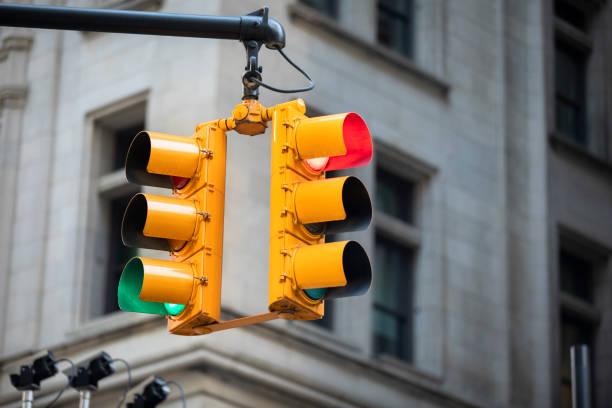Traffic Signal: (264, 97, 386, 331), (112, 112, 233, 323)
